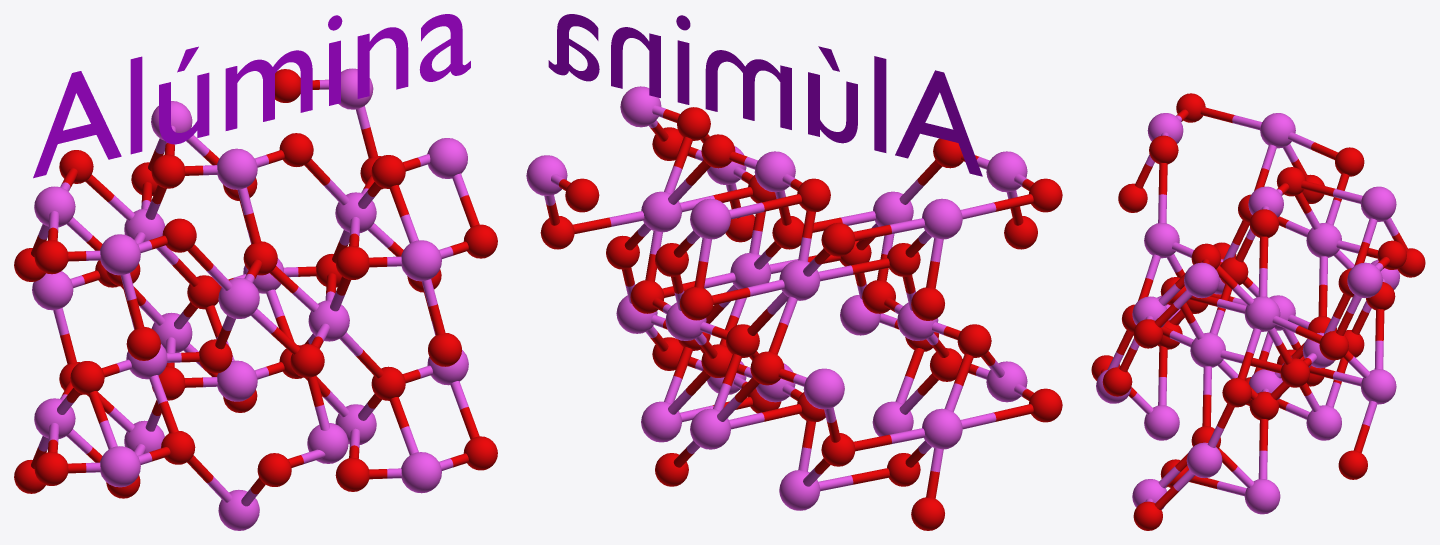
File: alumina.glb
The picture shows the model from 3 angles, left to right: view 1: azimuth 30°, elevation 25°; view 2: azimuth 150°, elevation 25°; view 3: azimuth 270°, elevation 25°; orthographic projection. The views are drawn at different scales.
Parts seen in each view (by area): view 1: Text, Shape_IndexedFaceSet.545, Shape_IndexedFaceSet.635, Shape_IndexedFaceSet.271, Shape_IndexedFaceSet.365, Shape_IndexedFaceSet.361, Shape_IndexedFaceSet.003, Shape_IndexedFaceSet.630, Shape_IndexedFaceSet.275, Shape_IndexedFaceSet.549, Shape_IndexedFaceSet.634, Shape_IndexedFaceSet.002 (+37 smaller); view 2: Text, Shape_IndexedFaceSet.549, Shape_IndexedFaceSet.364, Shape_IndexedFaceSet.544, Shape_IndexedFaceSet.634, Shape_IndexedFaceSet.270, Shape_IndexedFaceSet.274, Shape_IndexedFaceSet.360, Shape_IndexedFaceSet.365, Shape_IndexedFaceSet.635, Shape_IndexedFaceSet.003, Shape_IndexedFaceSet.542 (+39 smaller); view 3: Shape_IndexedFaceSet.004, Shape_IndexedFaceSet.003, Shape_IndexedFaceSet.540, Shape_IndexedFaceSet.270, Shape_IndexedFaceSet.364, Shape_IndexedFaceSet.007, Shape_IndexedFaceSet.542, Shape_IndexedFaceSet.274, Shape_IndexedFaceSet.634, Shape_IndexedFaceSet.630, Shape_IndexedFaceSet.280, Shape_IndexedFaceSet.632 (+28 smaller).
Part boxes in pixels (x1,y1,x2,y2): Text: (33,14,470,178); Shape_IndexedFaceSet.545: (100,446,140,487); Shape_IndexedFaceSet.635: (100,234,140,275); Shape_IndexedFaceSet.271: (401,452,441,493); Shape_IndexedFaceSet.365: (217,148,257,189); Shape_IndexedFaceSet.361: (401,240,441,281); Shape_IndexedFaceSet.003: (427,138,467,178); Shape_IndexedFaceSet.630: (218,278,259,318); Shape_IndexedFaceSet.275: (217,360,257,401); Shape_IndexedFaceSet.549: (32,271,73,310); Shape_IndexedFaceSet.634: (34,186,75,227); Shape_IndexedFaceSet.002: (307,423,348,463); Text: (548,14,982,176); Shape_IndexedFaceSet.549: (803,368,844,409); Shape_IndexedFaceSet.364: (690,198,730,239); Shape_IndexedFaceSet.544: (922,408,962,449); Shape_IndexedFaceSet.634: (922,198,962,239); Shape_IndexedFaceSet.270: (641,401,681,442); Shape_IndexedFaceSet.274: (690,408,730,449); Shape_IndexedFaceSet.360: (641,191,681,232); Shape_IndexedFaceSet.365: (754,151,795,192); Shape_IndexedFaceSet.635: (986,151,1027,192); Shape_IndexedFaceSet.003: (620,86,661,127); Shape_IndexedFaceSet.542: (779,470,820,510); Shape_IndexedFaceSet.004: (1347,262,1382,297); Shape_IndexedFaceSet.003: (1184,262,1219,298); Shape_IndexedFaceSet.540: (1144,405,1179,440); Shape_IndexedFaceSet.270: (1244,479,1280,514); Shape_IndexedFaceSet.364: (1360,186,1396,221); Shape_IndexedFaceSet.007: (1186,442,1222,477); Shape_IndexedFaceSet.542: (1306,405,1341,440); Shape_IndexedFaceSet.274: (1360,369,1396,404); Shape_IndexedFaceSet.634: (1260,113,1295,148); Shape_IndexedFaceSet.630: (1144,223,1179,258); Shape_IndexedFaceSet.280: (1190,332,1225,367); Shape_IndexedFaceSet.632: (1306,223,1341,257).
Size of the model in its own units: 12 by 10.63 by 8.49.
